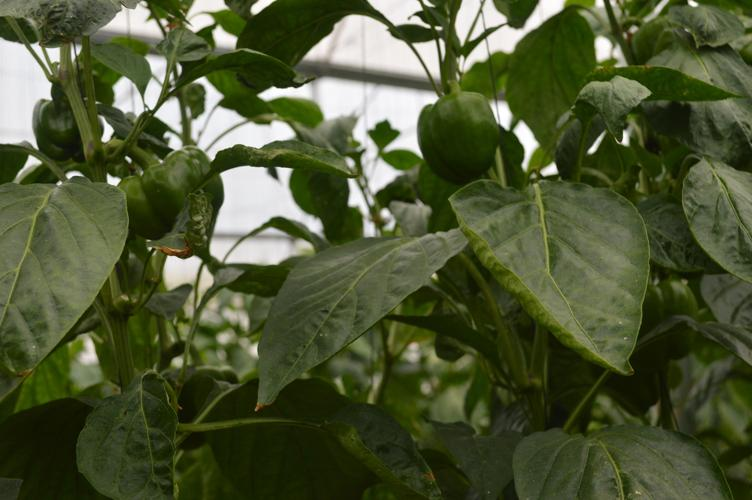BellPepper: (112, 147, 216, 233), (414, 95, 497, 188), (632, 281, 695, 358), (32, 105, 95, 164)
